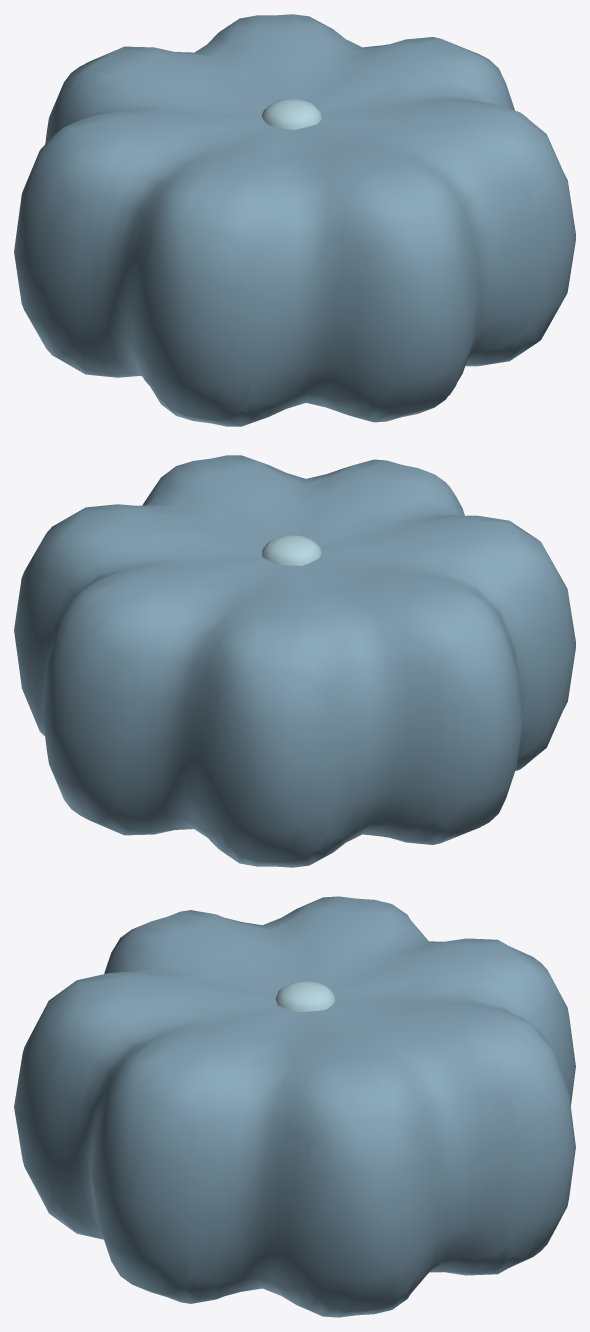
The model's file is Ottoman_1.glb.
3 views of the same model, one above another, from view 1: azimuth 30°, elevation 25°; view 2: azimuth 150°, elevation 25°; view 3: azimuth 270°, elevation 25° (orthographic).
Parts seen in each view (by area): view 1: Ottoman_1; view 2: Ottoman_1; view 3: Ottoman_1.
Boxes of the visible parts, box(x1,y1,x2,y2) form: Ottoman_1: box(14, 14, 575, 426); Ottoman_1: box(14, 455, 575, 867); Ottoman_1: box(14, 896, 575, 1317).
Bounding box in the file's own units: 1.09 × 0.5084 × 1.07.
1 material, 1 textured.
